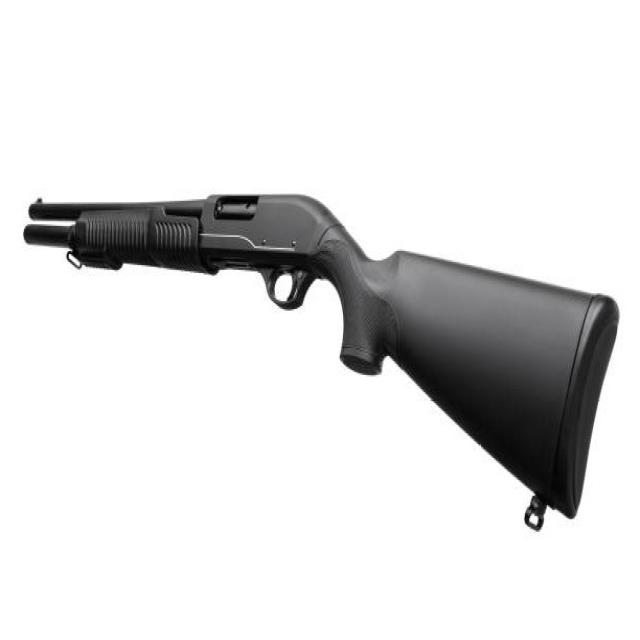rifle: (10, 179, 625, 537)
